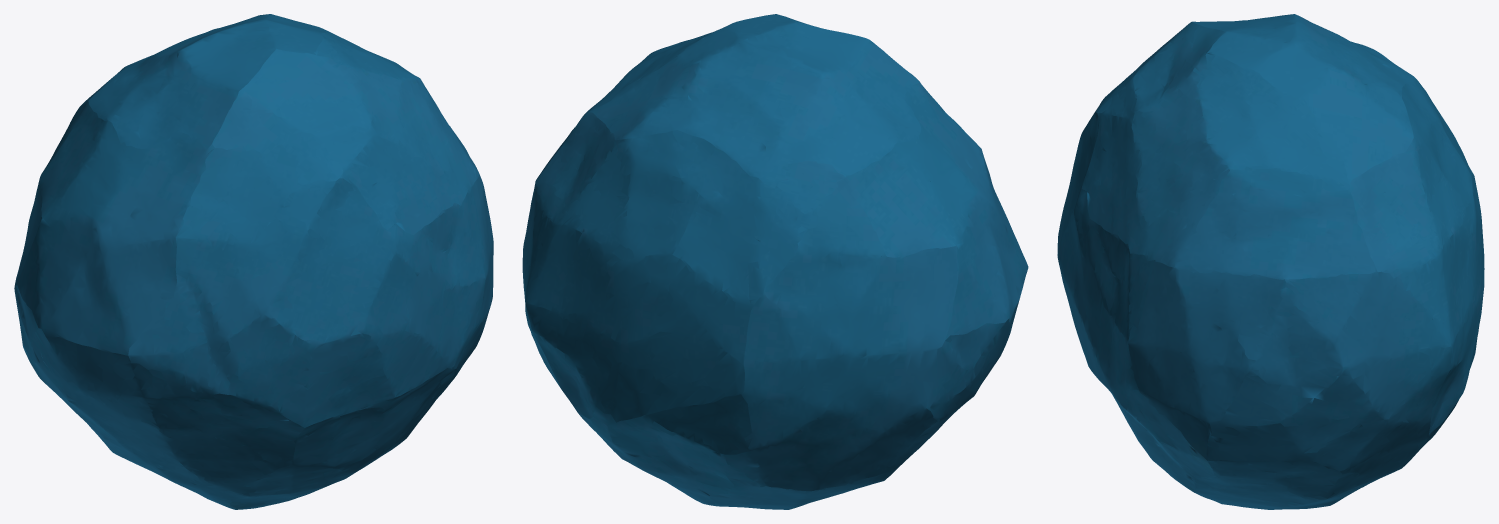
Rendered from pill_calm_mind.glb.
The picture shows the model from 3 angles, left to right: view 1: azimuth 30°, elevation 25°; view 2: azimuth 150°, elevation 25°; view 3: azimuth 270°, elevation 25°; orthographic projection.
Parts seen in each view (by area): view 1: pill_heal; view 2: pill_heal; view 3: pill_heal.
Part boxes in pixels (x1,y1,x2,y2): pill_heal: (14,14,493,509); pill_heal: (522,14,1028,509); pill_heal: (1057,14,1484,509).
Bounding box in the file's own units: 0.1194 × 0.12 × 0.0998.
1 material, 1 textured.
